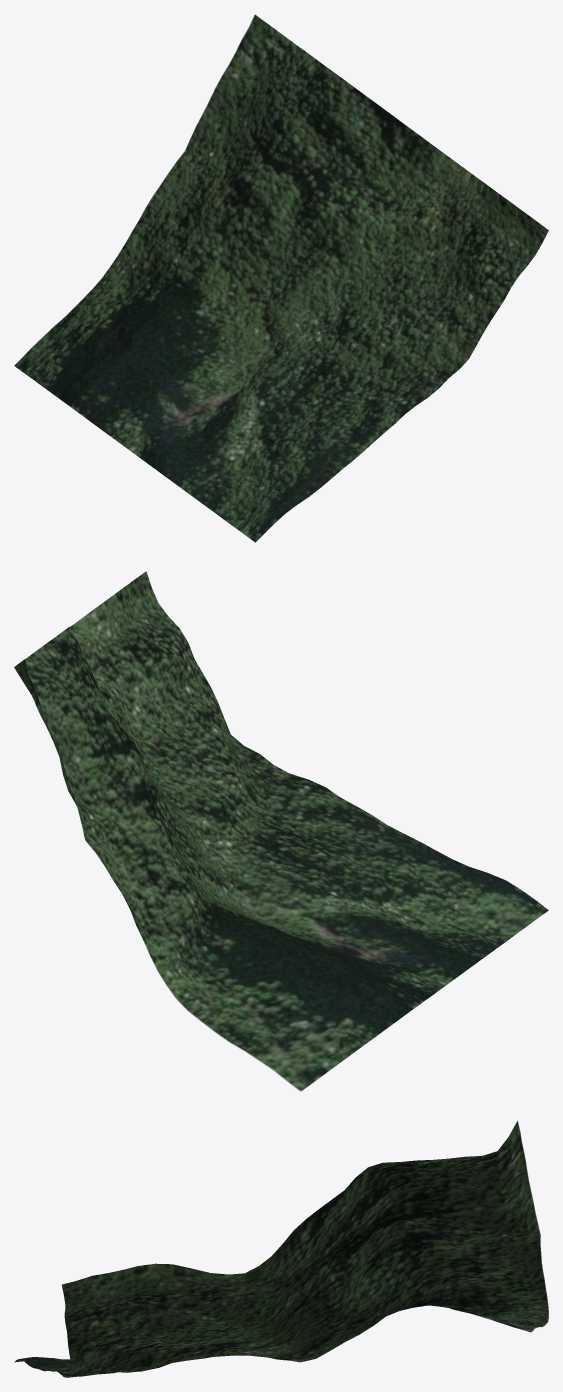
The picture shows the model from 3 angles, top to bottom: view 1: azimuth 30°, elevation 25°; view 2: azimuth 150°, elevation 25°; view 3: azimuth 270°, elevation 25°; orthographic projection. The views are drawn at different scales.
Size of the model in its own units: 1071 by 934 by 1226.
Materials: 1 (1 with a texture image).
